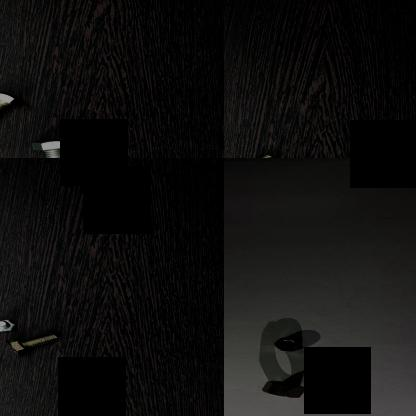Bolts: (4, 330, 60, 358), (24, 135, 84, 158), (0, 90, 29, 130), (0, 316, 18, 334)
NUTS: (246, 373, 314, 403), (263, 326, 313, 356)
